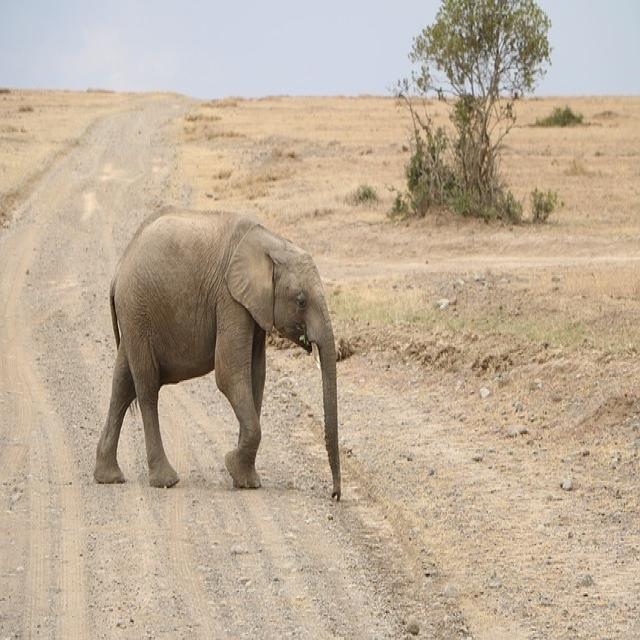FIL: (95, 204, 355, 506)
